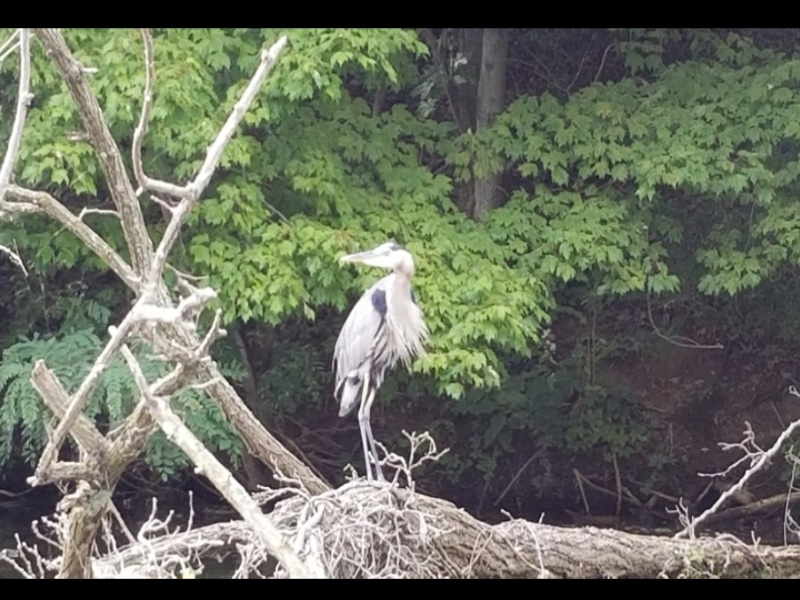heron: (329, 240, 435, 490)
